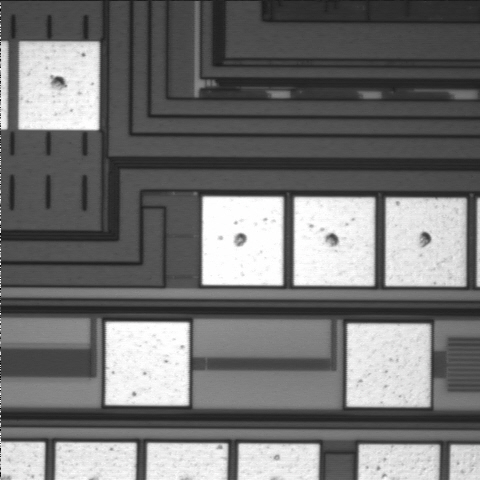pad: (202, 196, 283, 285), (294, 197, 375, 286), (18, 42, 99, 130), (385, 198, 466, 286), (105, 322, 189, 406), (347, 324, 430, 407)
